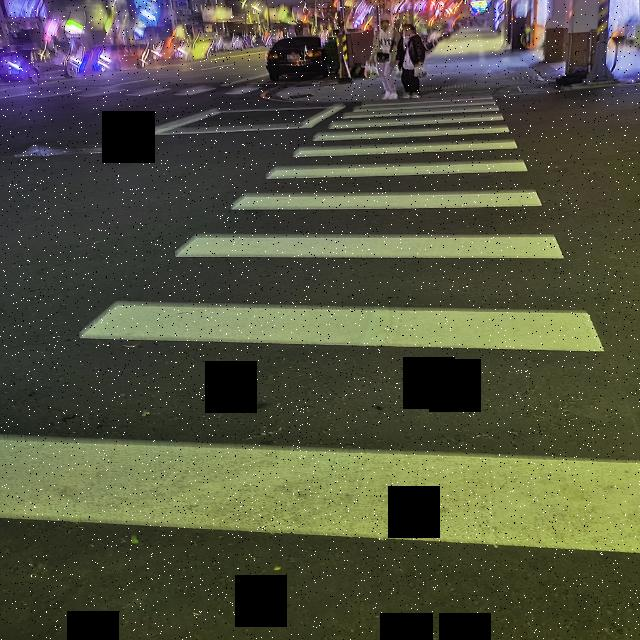person: (370, 20, 400, 100), (397, 24, 425, 99)
zebra crossing: (0, 94, 640, 553), (3, 87, 265, 98)
